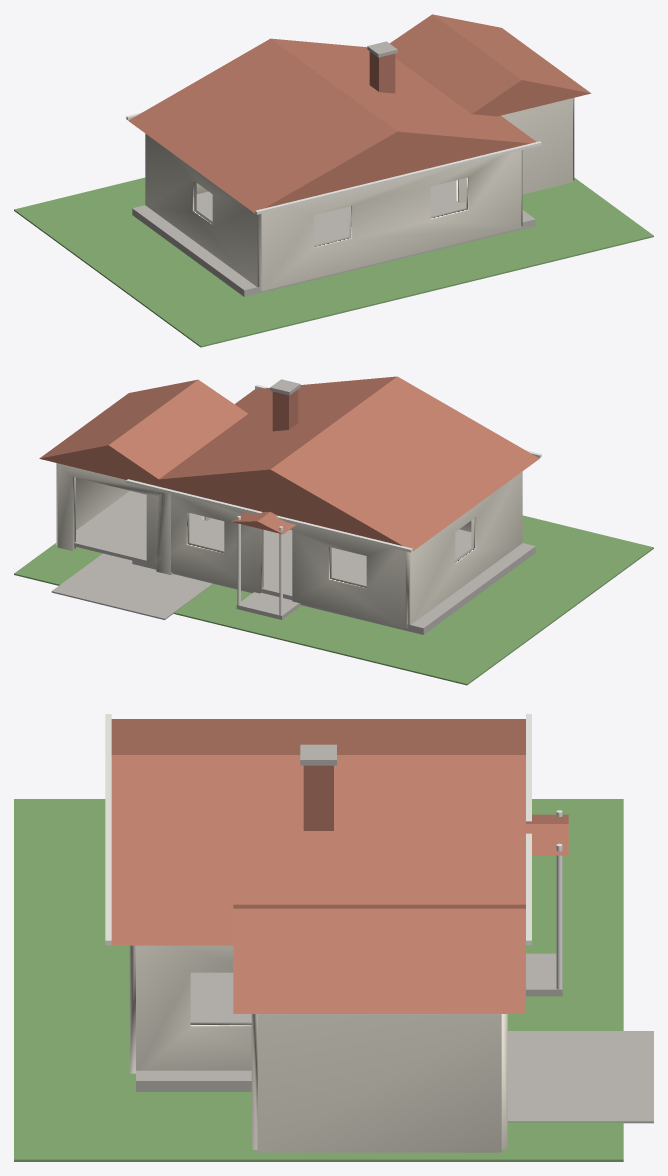
File: suburban_house_v2_shell.glb
3 renders of one model, top to bottom at view 1: azimuth 30°, elevation 25°; view 2: azimuth 150°, elevation 25°; view 3: azimuth 270°, elevation 25°, orthographic. The views are drawn at different scales.
Parts seen in each view (by area): view 1: main_roof, lawn, merged_wall_stucco (×2), garage_roof, foundation, floor, back_gutter, chimney; view 2: main_roof, merged_wall_stucco (×2), lawn, garage_roof, foundation, driveway, garage_floor, floor, front_gutter, porch_slab, chimney, porch_roof; view 3: main_roof, lawn, merged_wall_stucco (×2), garage_roof, driveway, foundation, chimney, back_gutter, porch_roof, porch_slab, front_gutter, porch_post_r (+2 smaller).
Boxes of the visible parts, <box> form: main_roof: <box>128,38,536,213</box>; lawn: <box>14,177,653,347</box>; merged_wall_stucco (×2): <box>145,98,574,290</box>; garage_roof: <box>390,14,591,116</box>; foundation: <box>132,180,535,296</box>; floor: <box>196,180,465,244</box>; back_gutter: <box>255,141,541,214</box>; chimney: <box>369,51,395,93</box>; main_roof: <box>138,376,539,551</box>; merged_wall_stucco (×2): <box>56,463,522,628</box>; lawn: <box>14,515,653,685</box>; garage_roof: <box>39,379,247,489</box>; foundation: <box>132,514,535,634</box>; driveway: <box>51,553,213,619</box>; garage_floor: <box>74,490,224,563</box>; floor: <box>189,518,471,599</box>; front_gutter: <box>126,479,412,552</box>; porch_slab: <box>236,592,300,619</box>; chimney: <box>272,389,298,431</box>; porch_roof: <box>232,512,295,534</box>; main_roof: <box>111,719,525,945</box>; lawn: <box>14,799,623,1161</box>; merged_wall_stucco (×2): <box>129,945,507,1152</box>; garage_roof: <box>233,904,525,1013</box>; driveway: <box>507,1031,653,1123</box>; foundation: <box>136,972,251,1091</box>; chimney: <box>303,765,333,830</box>; back_gutter: <box>105,714,111,945</box>; porch_roof: <box>526,814,568,855</box>; porch_slab: <box>526,953,562,996</box>; front_gutter: <box>526,714,531,945</box>; porch_post_r: <box>556,843,562,989</box>.
Size of the model in its own units: 14.15 by 4.85 by 10.5.
